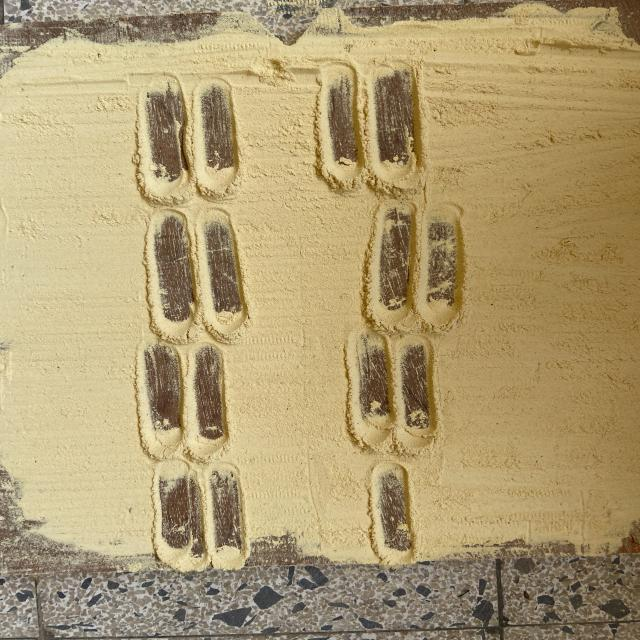double: (311, 54, 430, 194), (141, 208, 254, 344), (130, 72, 244, 206), (360, 201, 470, 327), (340, 329, 444, 454), (132, 336, 232, 457), (150, 460, 250, 569)
single: (366, 458, 418, 564)
